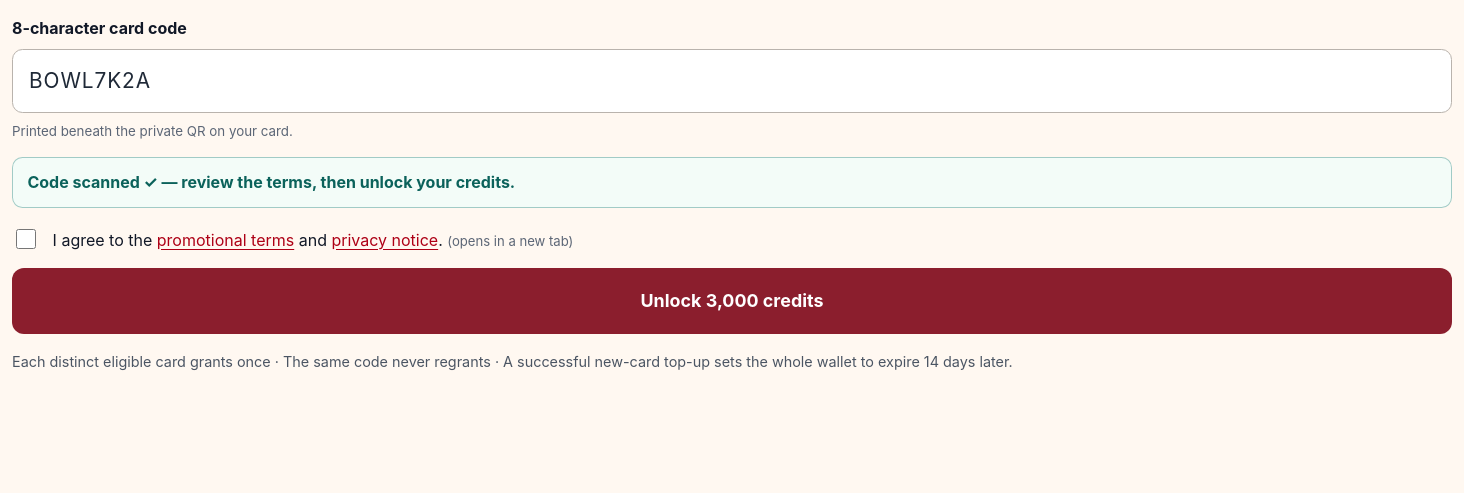
RedeemForm › preserves the secured claim and shows manual sign-in only when anonymous auth is unavailable
Click the checkbox named "termsAccepted" at (26, 239), box [16,229,36,249]
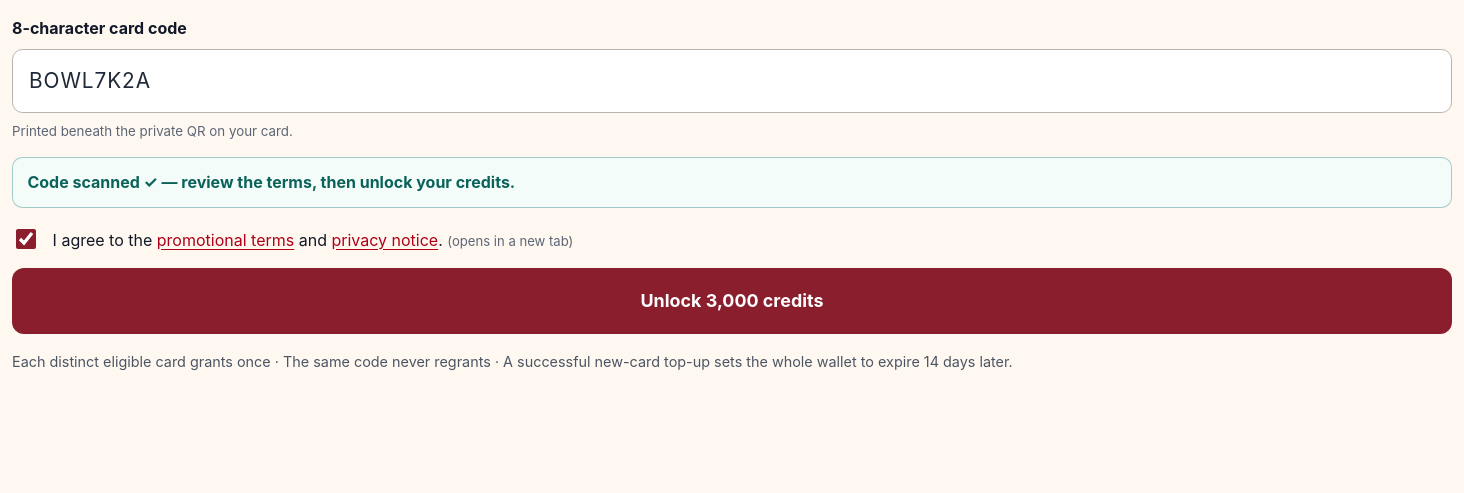
Submit the form
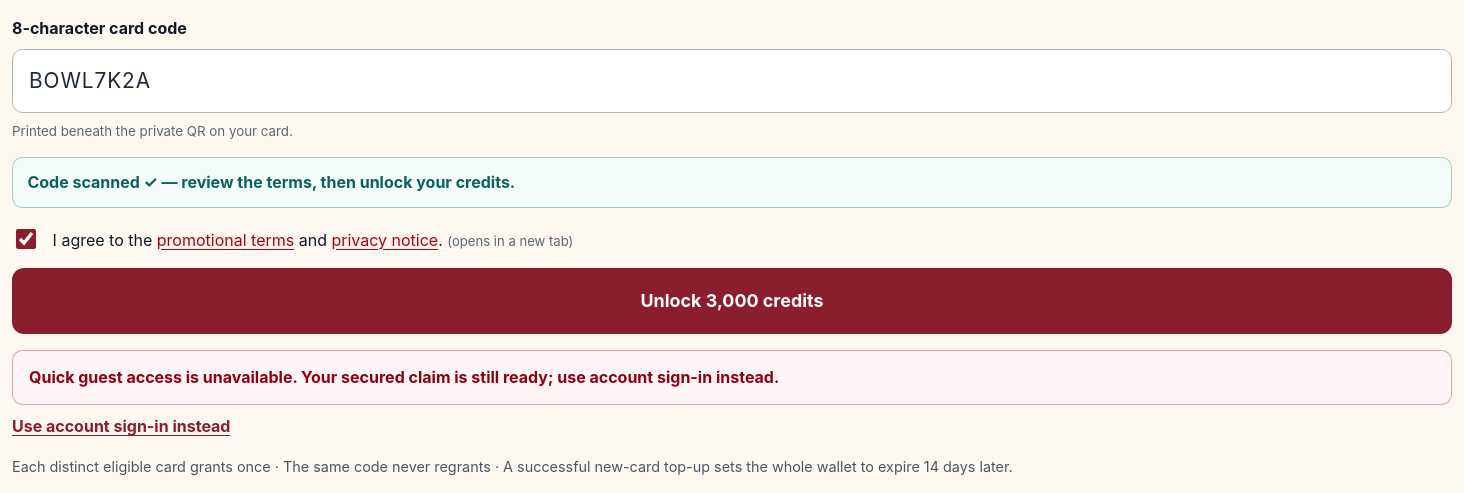
Expected: the text "Your secured claim is still ready" is shown, [29,367,779,387]
Expected: the link to "/auth?next=/redeem&error=anonymous" shows "Use account sign-in", [12,416,230,436]
